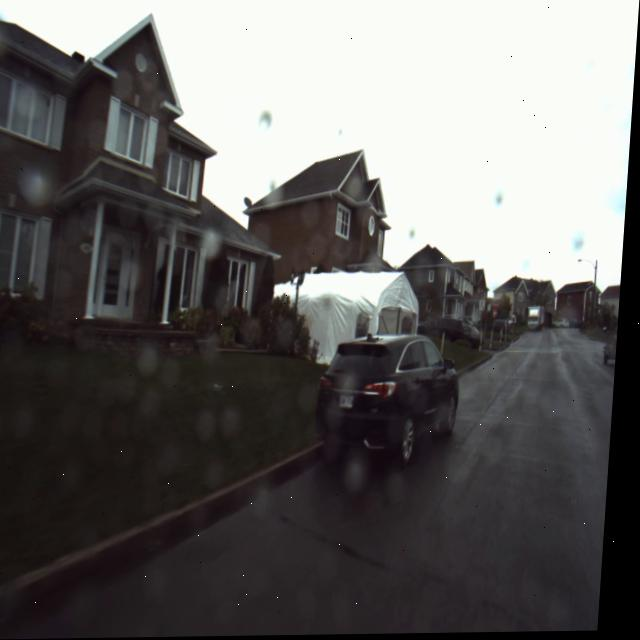car: (321, 277, 474, 468)
